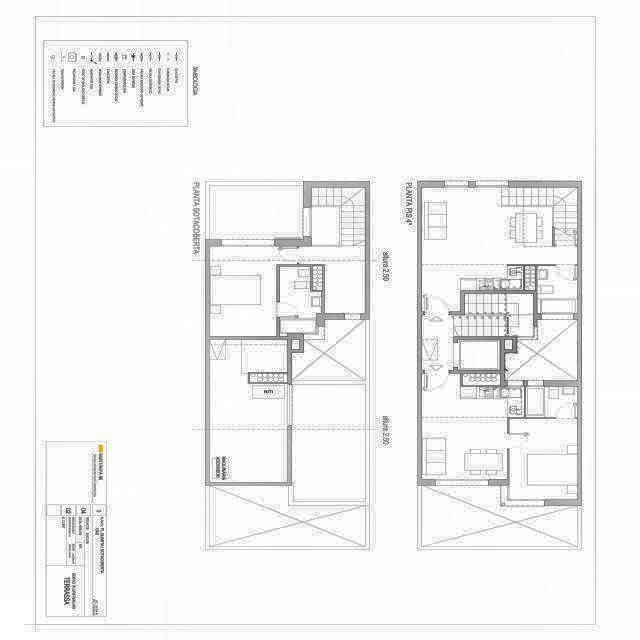room: (210, 187, 365, 336), (422, 188, 578, 312), (209, 339, 300, 482), (422, 373, 524, 479), (509, 419, 578, 500), (422, 315, 513, 370), (505, 320, 578, 381), (537, 266, 577, 313), (526, 387, 577, 417)
